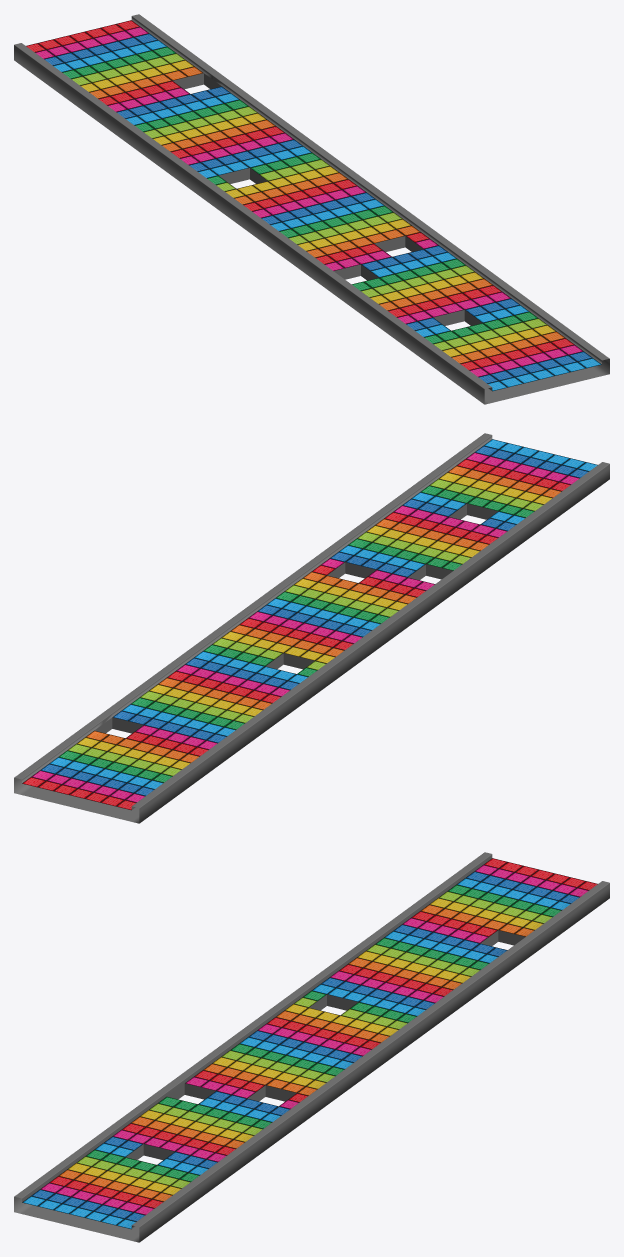
Rendered from test_stage.dae.
The picture shows the model from 3 angles, top to bottom: view 1: azimuth 30°, elevation 25°; view 2: azimuth 150°, elevation 25°; view 3: azimuth 330°, elevation 25°; orthographic projection.
Parts seen in each view (by area): view 1: area1; view 2: area1; view 3: area1.
Part boxes in pixels (box(x1,y1,x2,y2)): area1: box(14, 14, 609, 404); area1: box(14, 433, 609, 823); area1: box(14, 852, 609, 1242).
Size of the model in its own units: 160 by 19 by 1040.
